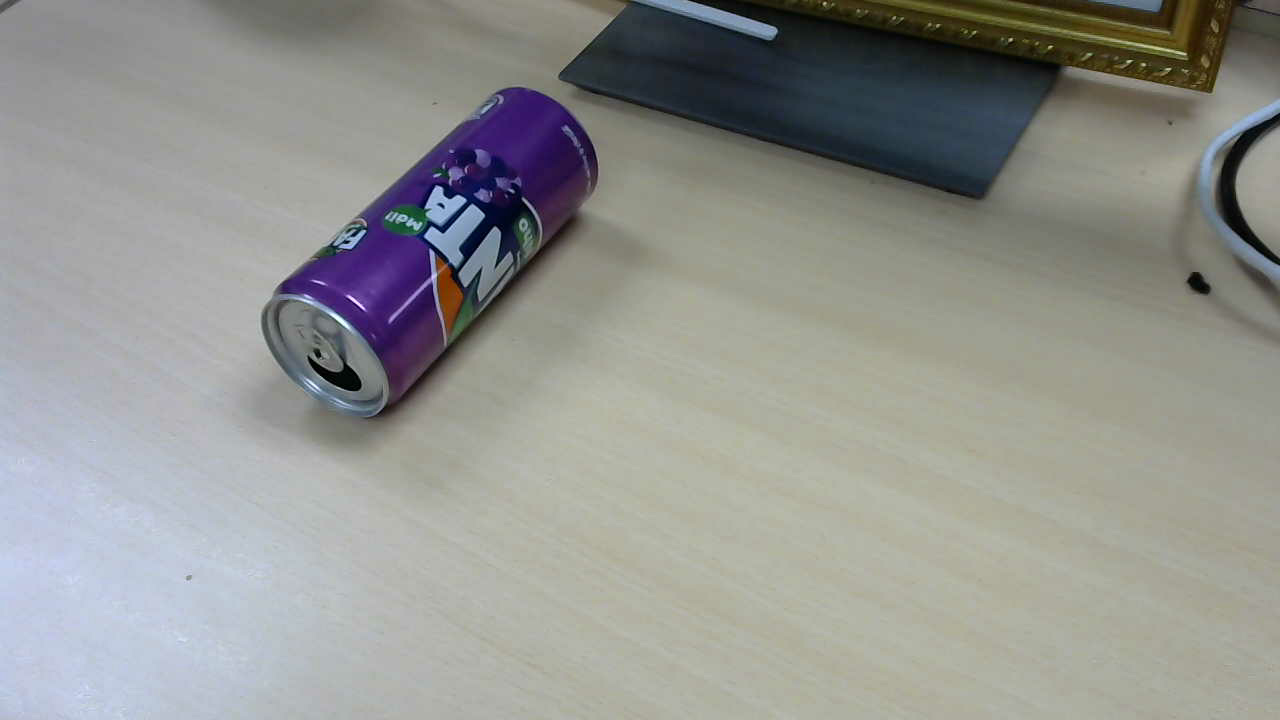Fanta: (269, 92, 606, 425)
